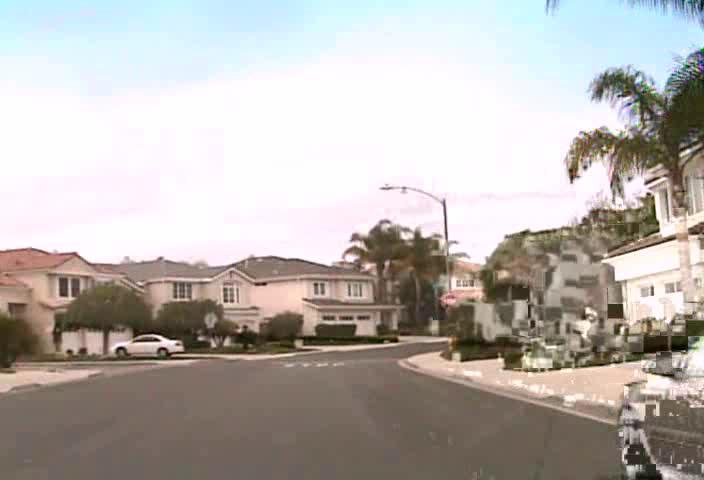stop: (440, 292, 458, 309)
